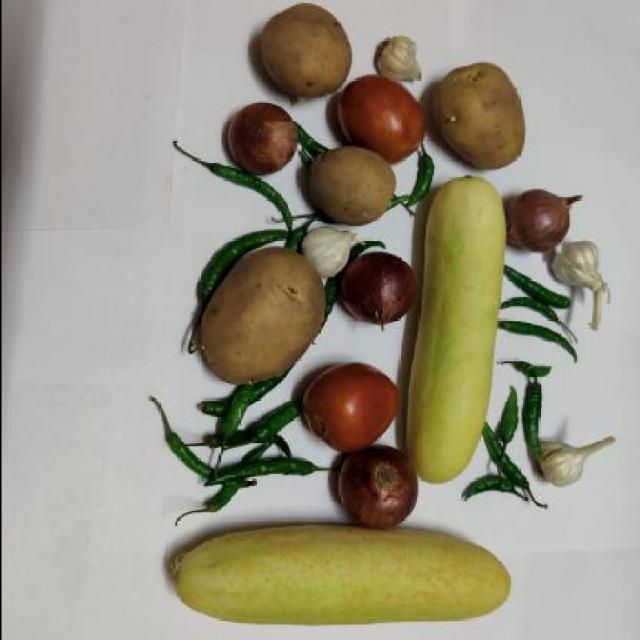Garlic: (552, 232, 611, 337), (534, 429, 626, 491), (295, 217, 360, 278), (374, 28, 426, 86)
Green Chili: (162, 428, 312, 498), (503, 263, 580, 362), (486, 382, 539, 509), (406, 149, 434, 205), (492, 358, 558, 380)
Onion: (328, 448, 420, 534), (336, 251, 422, 329), (224, 98, 298, 177), (505, 186, 586, 254)
Potato: (186, 254, 325, 389), (435, 52, 531, 174), (246, 0, 352, 98)
Tomato: (335, 73, 431, 158)
cucumber: (160, 525, 517, 632), (402, 177, 506, 494)
